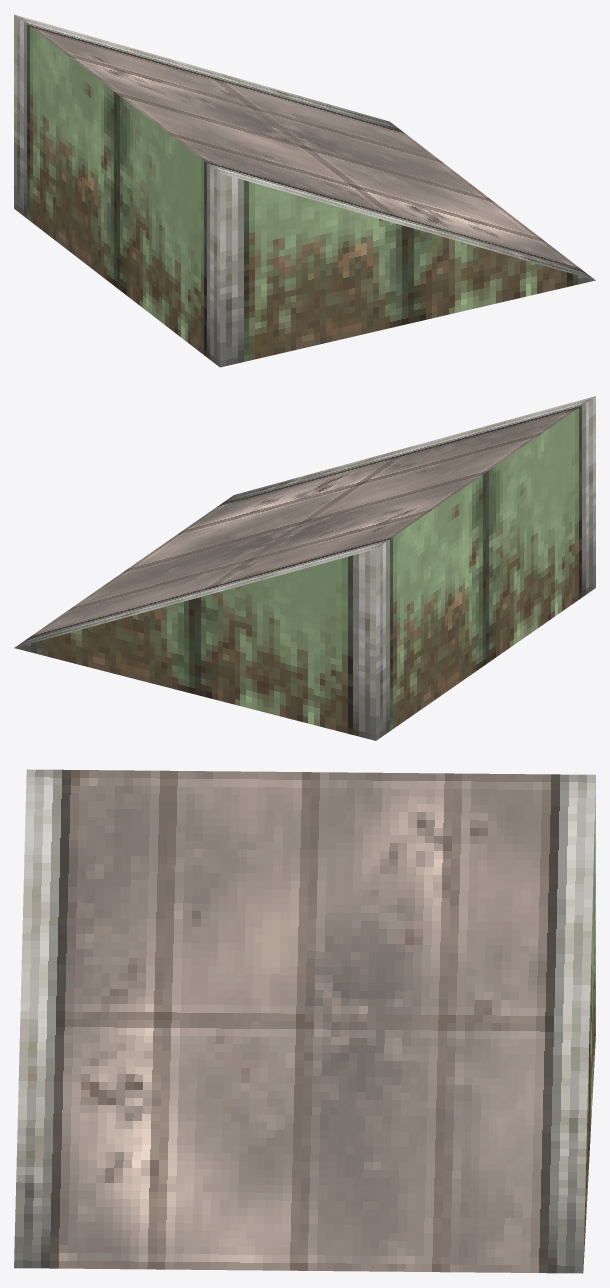
File: wall-b-roof-slant_lev2.glb
The picture shows the model from 3 angles, top to bottom: view 1: azimuth 30°, elevation 25°; view 2: azimuth 150°, elevation 25°; view 3: azimuth 270°, elevation 25°; orthographic projection. The views are drawn at different scales.
Parts seen in each view (by area): view 1: wall-b-roof-slant_lev2; view 2: wall-b-roof-slant_lev2; view 3: wall-b-roof-slant_lev2.
Boxes of the visible parts, bbox=[...] form: wall-b-roof-slant_lev2: bbox=[14, 14, 595, 367]; wall-b-roof-slant_lev2: bbox=[14, 396, 595, 740]; wall-b-roof-slant_lev2: bbox=[14, 769, 595, 1273].
Size of the model in its own units: 5.56 by 2.72 by 5.56.
3 materials, 3 textured.
